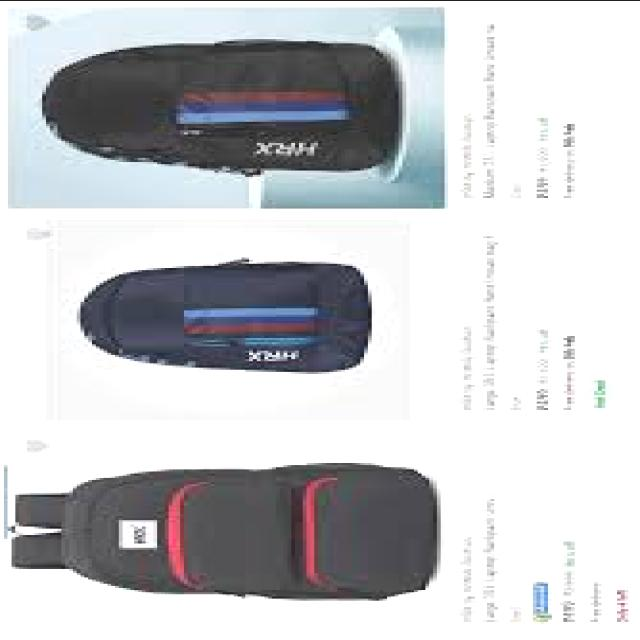backpack: (9, 463, 438, 603), (40, 39, 396, 179), (78, 260, 370, 374)
